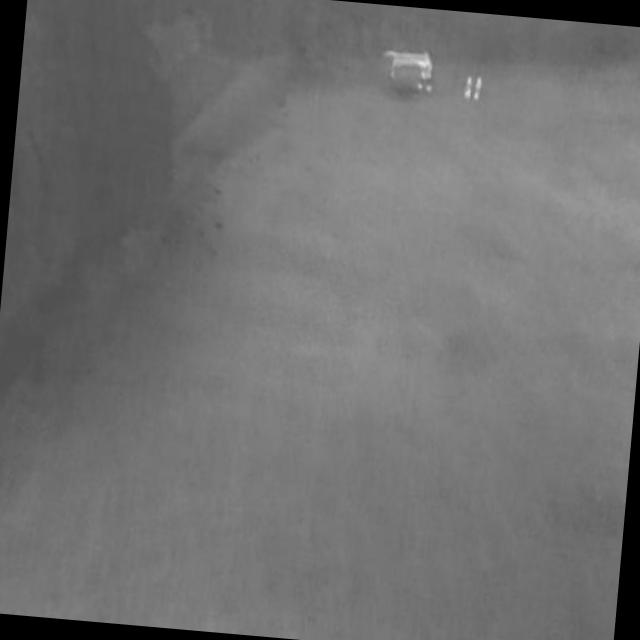person: (473, 77, 484, 103), (464, 75, 474, 101)
